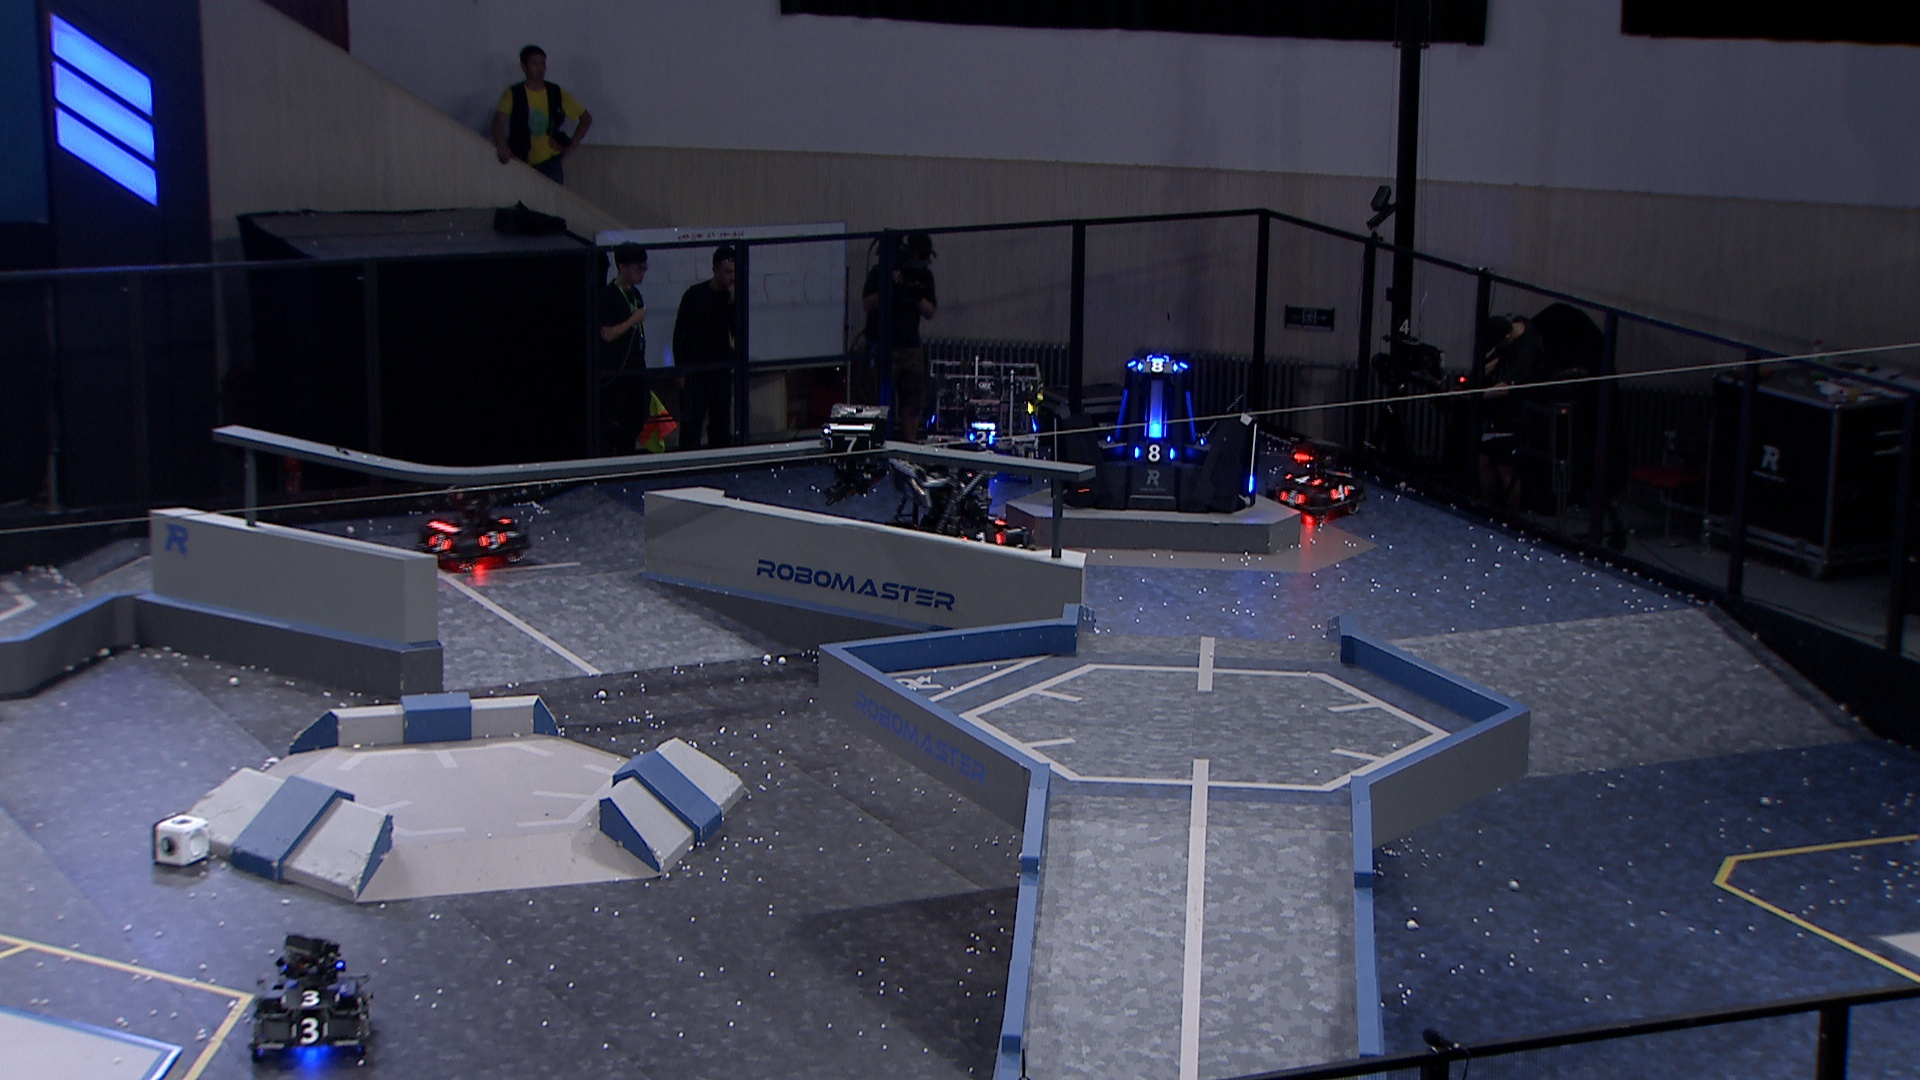armor: (287, 1015, 332, 1048), (1109, 385, 1134, 442), (277, 986, 344, 1007), (1183, 386, 1201, 443), (825, 436, 874, 458), (960, 527, 1006, 549), (1134, 356, 1182, 376), (1130, 443, 1178, 462), (425, 531, 456, 553), (1284, 469, 1327, 485), (965, 431, 996, 450), (352, 992, 371, 1022), (1145, 418, 1168, 440), (481, 531, 508, 551), (1276, 491, 1305, 508), (1331, 481, 1352, 500), (1245, 473, 1258, 495)
base: (1048, 352, 1267, 517)
car: (887, 436, 1040, 566), (247, 927, 376, 1065), (918, 353, 1044, 480), (413, 480, 539, 570), (1266, 438, 1365, 524)
watcher: (822, 401, 893, 505)
